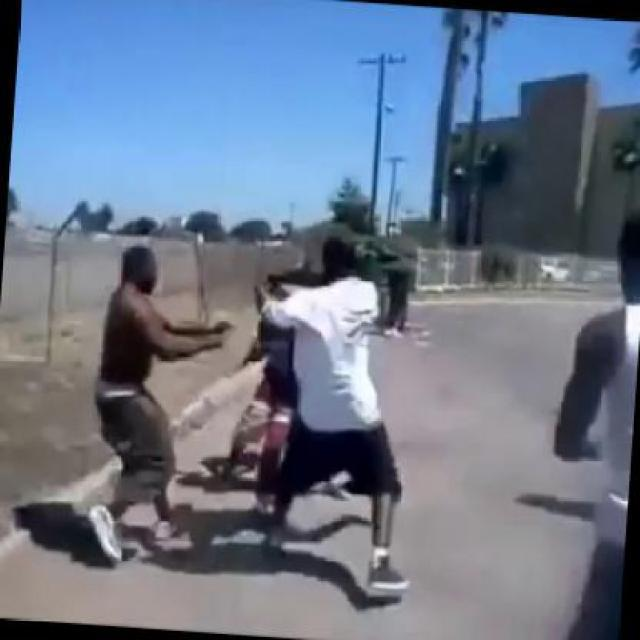fight: (229, 230, 437, 602)
non-fight: (77, 238, 237, 564)
